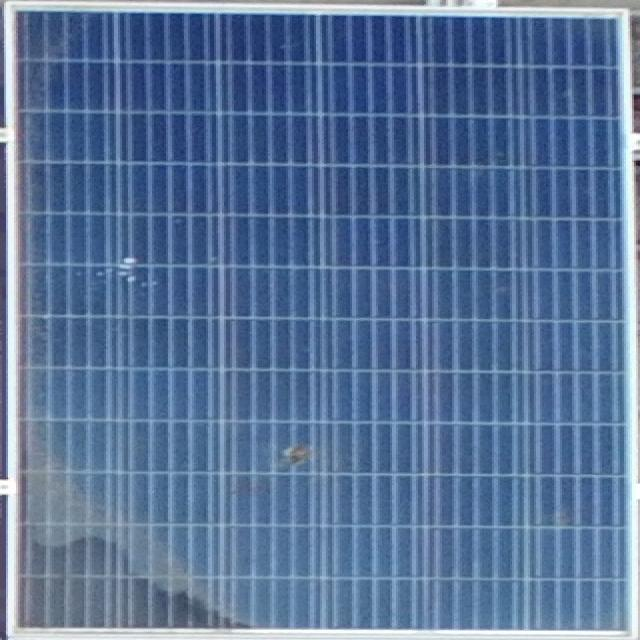Dust: (9, 413, 246, 640)
bird-droppings: (87, 240, 173, 308), (252, 434, 332, 481)
